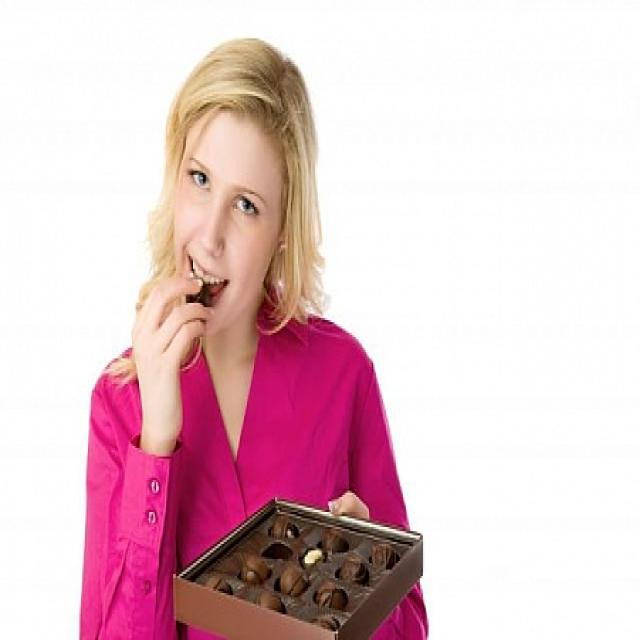Eyes: (175, 150, 266, 228)
